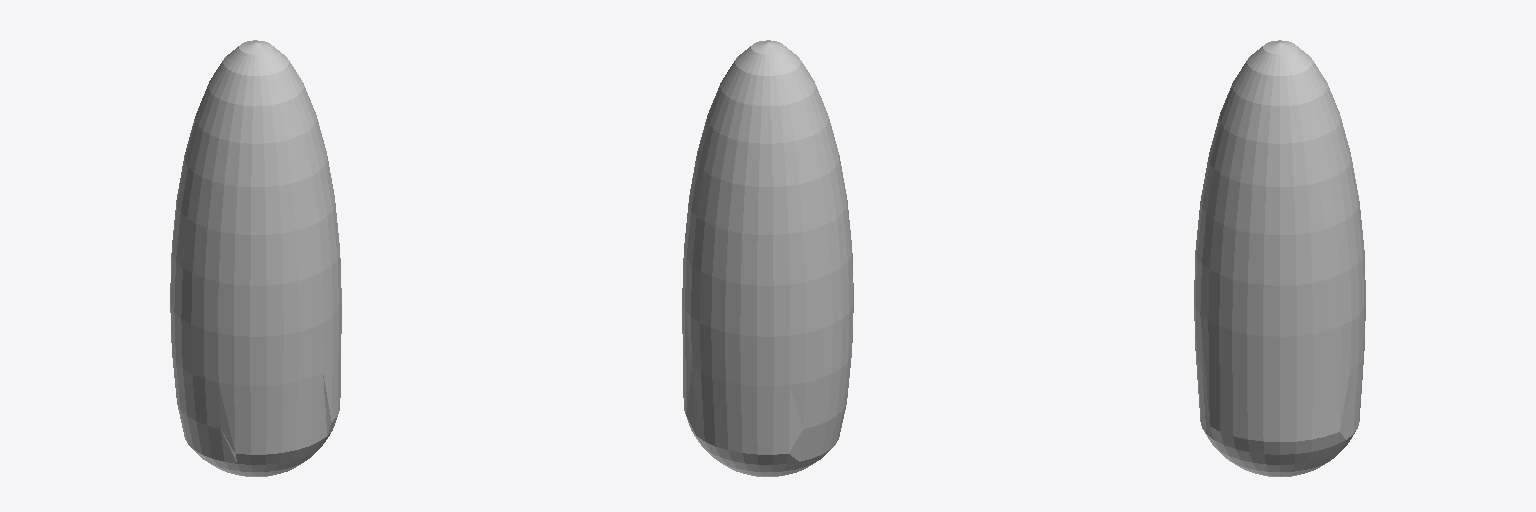
The model's file is Leaves1.obj.
3 views of the same model, side by side, from view 1: azimuth 30°, elevation 25°; view 2: azimuth 150°, elevation 25°; view 3: azimuth 270°, elevation 25° (orthographic).
Parts seen in each view (by area): view 1: Sphere; view 2: Sphere; view 3: Sphere.
Boxes of the visible parts, x1,y1,x2,y2 form: Sphere: [170, 40, 341, 476]; Sphere: [682, 40, 853, 476]; Sphere: [1194, 40, 1365, 476].
Bounding box in the file's own units: 2 × 5.47 × 2.